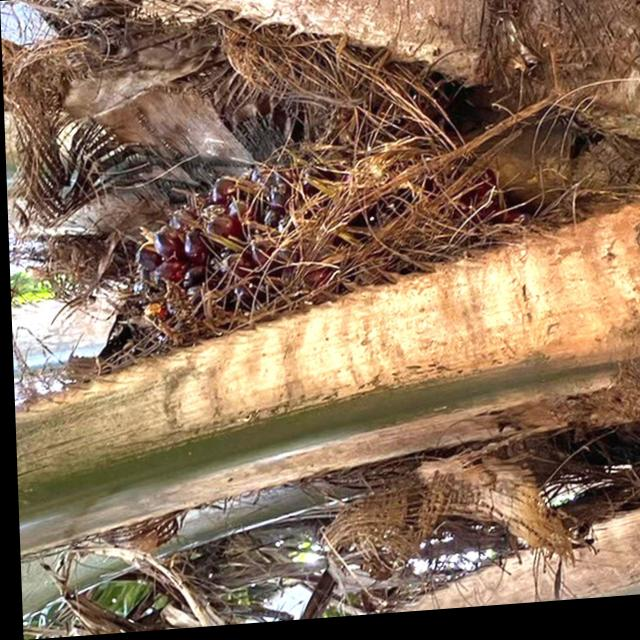ripe: (122, 143, 473, 349)
